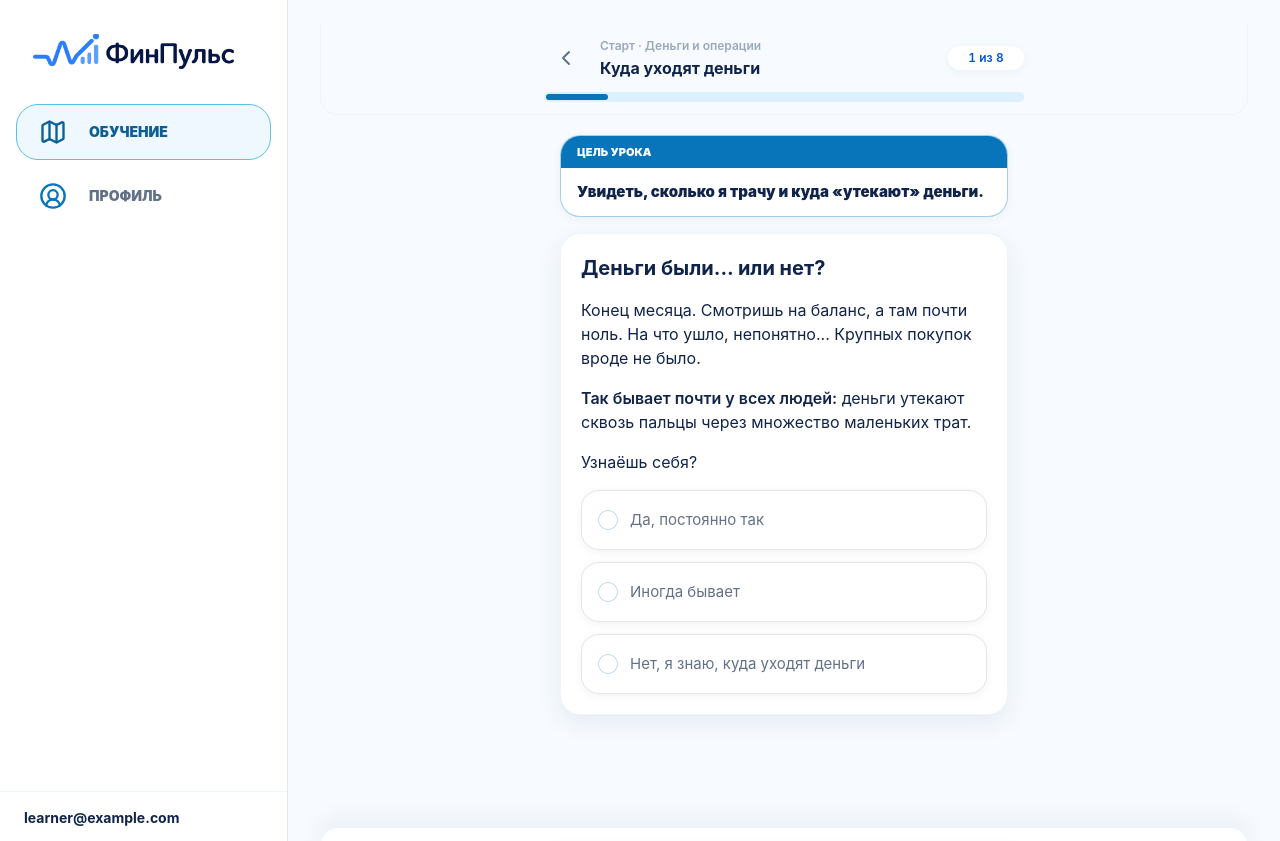
App › returns from a lesson to the focused lesson node on the level path
Expected: the heading "Куда уходят деньги" is shown, [600,58,760,78]
What coordinates should you click on to do the following:
click the link named "Вернуться к уровню Уровень 1 · Старт"
I would click on:
 (566, 58)
Its box is [554,46,578,70].
(page scrolled)
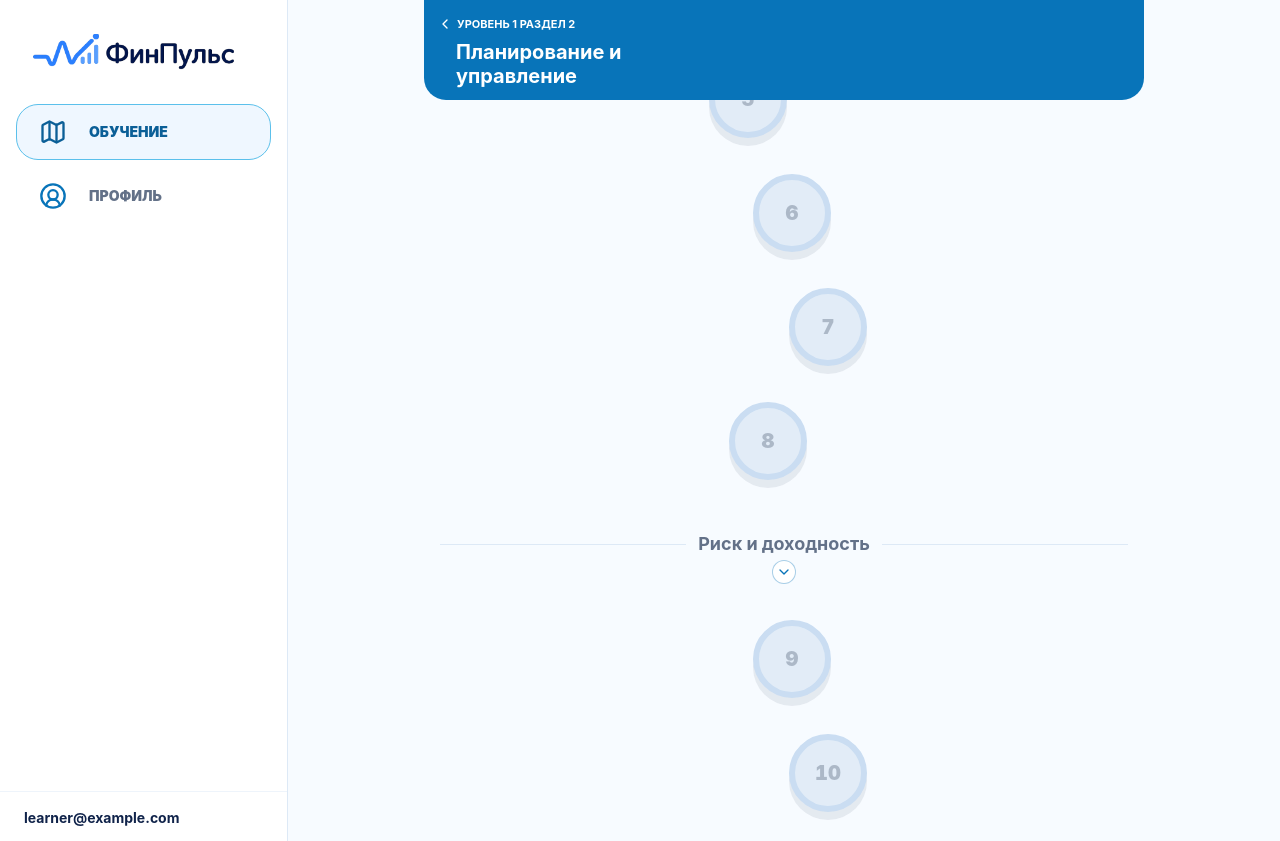
Expected: the header with test id "compact-path-header" is shown, [424,0,1144,100]
